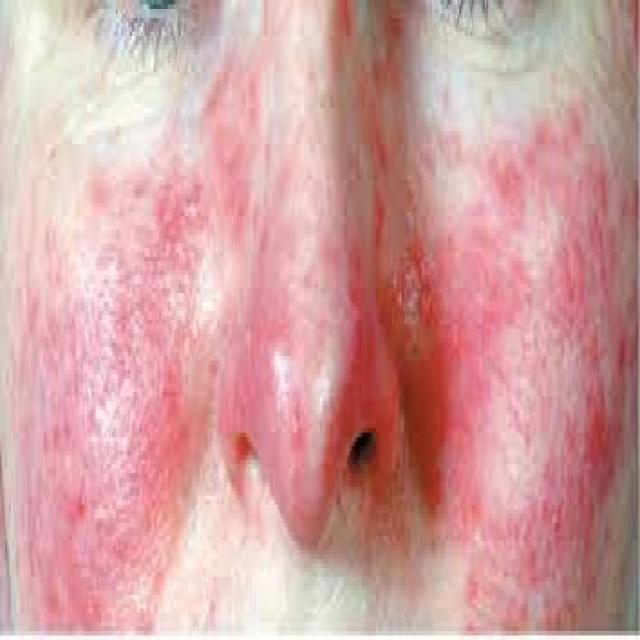Rosacea: (410, 102, 630, 638), (27, 172, 201, 635), (212, 112, 384, 523)
